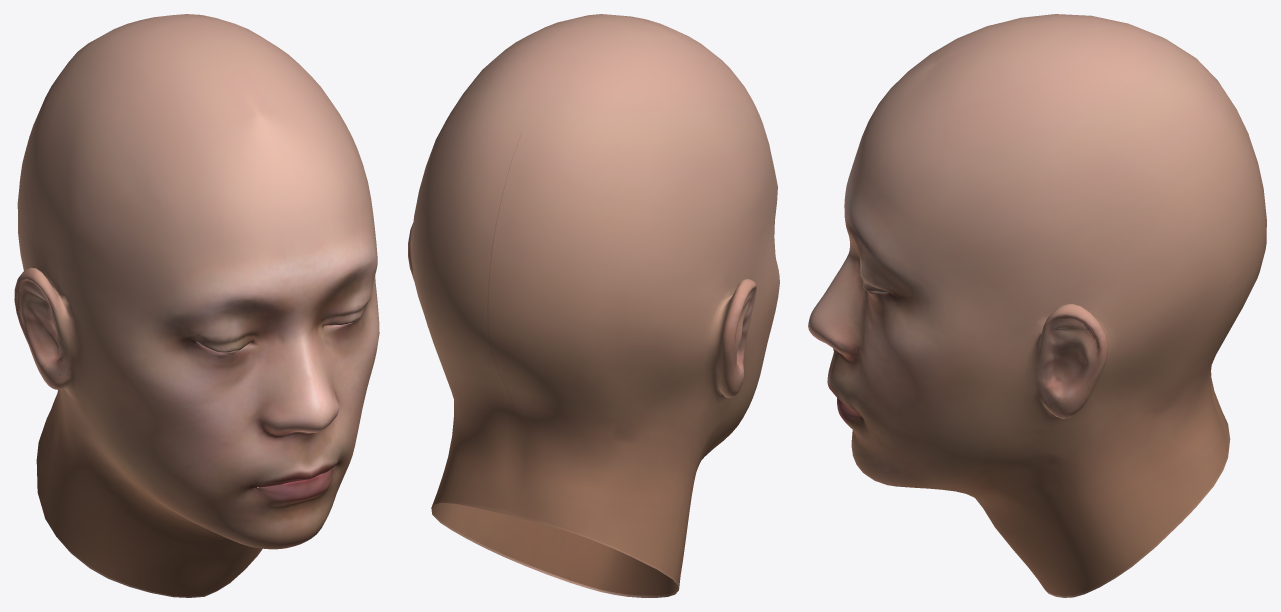
File: blind.glb
The picture shows the model from 3 angles, left to right: view 1: azimuth 30°, elevation 25°; view 2: azimuth 150°, elevation 25°; view 3: azimuth 270°, elevation 25°; orthographic projection.
Visible parts, largest first — view 1: Mesh_0; view 2: Mesh_0; view 3: Mesh_0.
Boxes of the visible parts, box(x1,y1,x2,y2) form: Mesh_0: box(14, 14, 379, 597); Mesh_0: box(408, 14, 779, 597); Mesh_0: box(808, 14, 1266, 597).
Size of the model in its own units: 365 by 595 by 445.
Materials: 2 (2 with a texture image).
